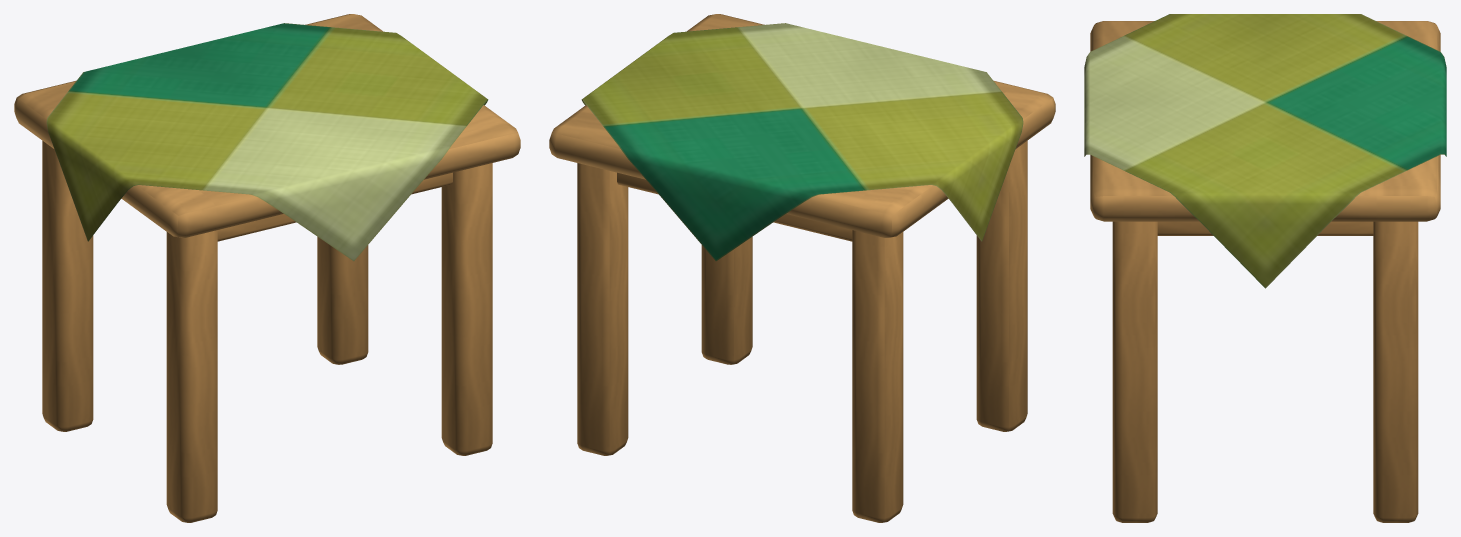
Rendered from study-table-classic.glb.
3 views of the same model, side by side, from view 1: azimuth 30°, elevation 25°; view 2: azimuth 150°, elevation 25°; view 3: azimuth 270°, elevation 25° (orthographic). The views are drawn at different scales.
Visible parts, largest first — view 1: study-table-classic; view 2: study-table-classic; view 3: study-table-classic.
Part boxes in pixels (box(x1,y1,x2,y2)): study-table-classic: box(14, 14, 520, 522); study-table-classic: box(549, 14, 1055, 522); study-table-classic: box(1084, 14, 1446, 522).
Bounding box in the file's own units: 0.966 × 0.846 × 0.806.
Materials: 2 (2 with a texture image).
